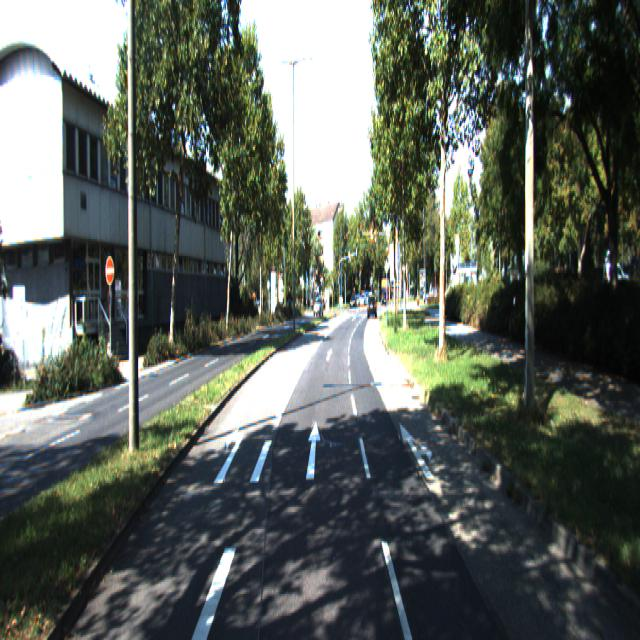Car: (368, 294, 377, 318)
